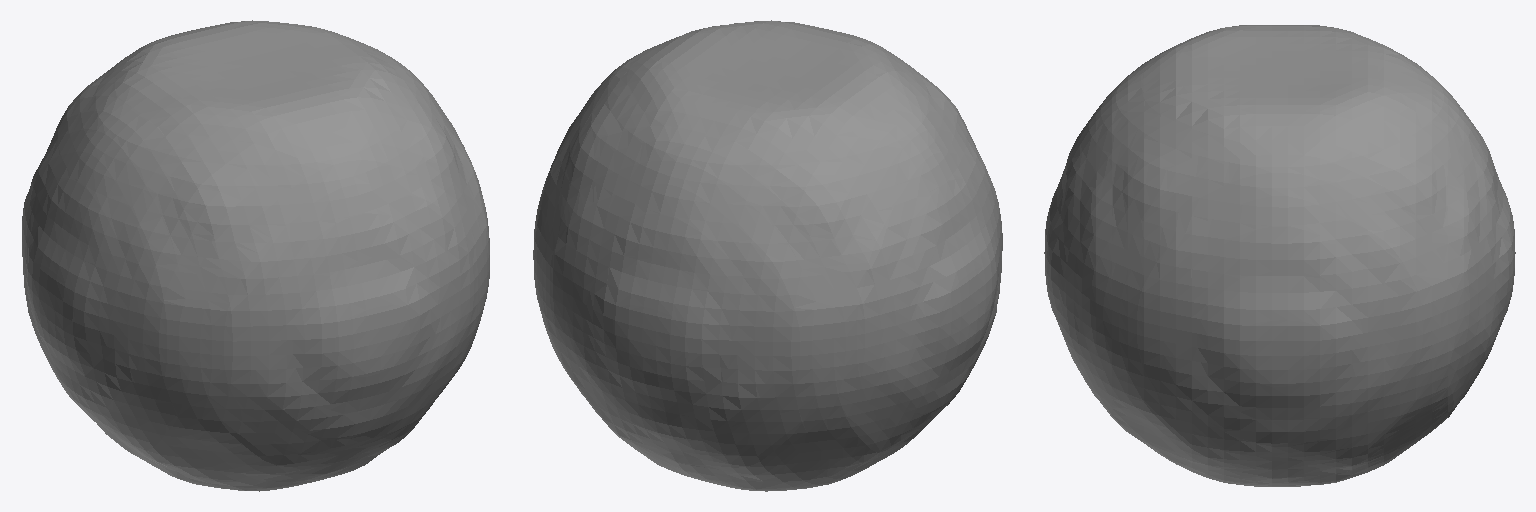
robot.urdf — cube.urdf:
<?xml version="0.0" ?> 
<robot name="cube.urdf"> 
<link name="legobrick"> 
<contact> 
<lateral_friction value="5.0"/> 
<rolling_friction value="0.0"/> 
<contact_cfm value="0.0"/> 
<contact_erp value="1.0"/> 
</contact> 
<inertial> 
<origin rpy="0 0 0" xyz="0.0 0.0 0.0"/> 
<mass value=".01"/> 
<inertia ixx="1" ixy="0" ixz="0" iyy="1" iyz="0" izz="1"/> 
</inertial> 
<visual> 
<origin rpy="1.570796 0 0" xyz="-0.025805469893492566 0.02580596604029583 -0.028924624925832348"/> 
<geometry> 
<mesh filename="E01_3.obj" scale="0.0006448642875995968 0.0006448642875995968 0.0006448642875995968"/> 
</geometry> 
<material name="yellow"> 
<color rgba="0.6 0.6 0.6 1"/> 
</material> 
</visual> 
<collision> 
<origin rpy="1.570796 0 0" xyz="-0.025805469893492566 0.02580596604029583 -0.028924624925832348"/> 
<geometry> 
<mesh filename="E01_3.obj" scale="0.0006448642875995968 0.0006448642875995968 0.0006448642875995968"/> 
</geometry> 
</collision> 
</link> 
</robot>

--- Facts derived from the render (not from the file) ---
3 views of the same robot in one strip: view 1: azimuth 30°, elevation 25°; view 2: azimuth 150°, elevation 25°; view 3: azimuth 270°, elevation 25° (orthographic).
Model cube.urdf with 1 links and 0 joints (none), rooted at legobrick, posed every joint at zero.
Visible links, largest first — view 1: legobrick; view 2: legobrick; view 3: legobrick.
Link boxes in pixels (x1,y1,x2,y2): legobrick: [22, 20, 489, 491]; legobrick: [533, 20, 1002, 491]; legobrick: [1044, 25, 1515, 486].
Size in the robot's own frame: 0.056 by 0.056 by 0.0516 metres.
Meshes: 1 distinct files referenced, 1 mesh visuals loaded (1 OBJ).
